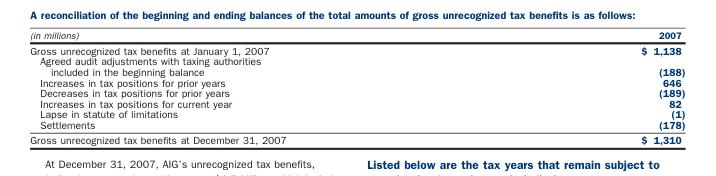table: (29, 28, 684, 145)
table column: (29, 28, 463, 145), (463, 28, 684, 145)
table column header: (29, 28, 684, 41)
table projected row header: (29, 55, 684, 65)
table row: (29, 41, 684, 55), (29, 131, 684, 145), (29, 28, 684, 41), (29, 118, 684, 131), (29, 65, 684, 76), (29, 76, 684, 87), (29, 97, 684, 108), (29, 55, 684, 65), (29, 87, 684, 97), (29, 108, 684, 118)
